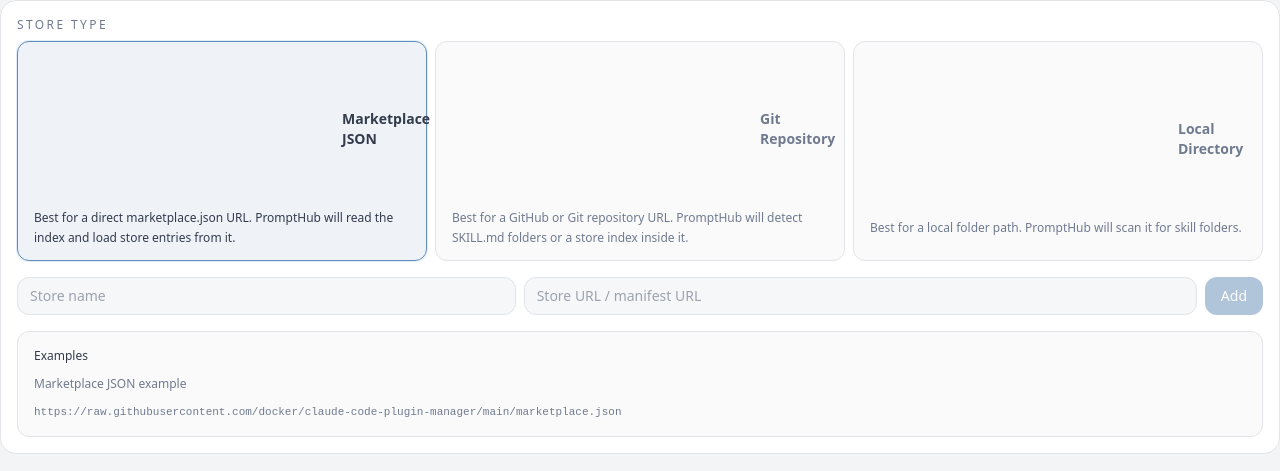
SkillStore custom sources › disables add-source until required fields are filled
The image size is (1280, 471).
Expected: the button "Add" is disabled, x1=1205 y1=277 x2=1263 y2=315
Type "Docs Store" into the field labelled "Store name" at (266, 296), box x1=17 y1=277 x2=516 y2=315
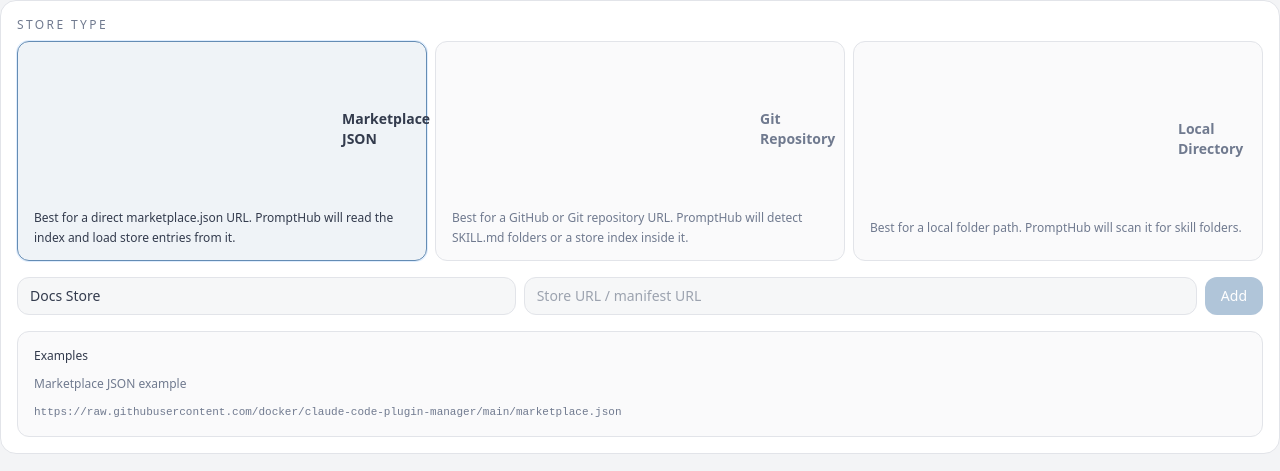
Expected: the button "Add" is disabled, x1=1205 y1=277 x2=1263 y2=315
Type "https://example.com/store.json" into the field labelled "Store URL / manifest URL" at (860, 296), box x1=524 y1=277 x2=1197 y2=315
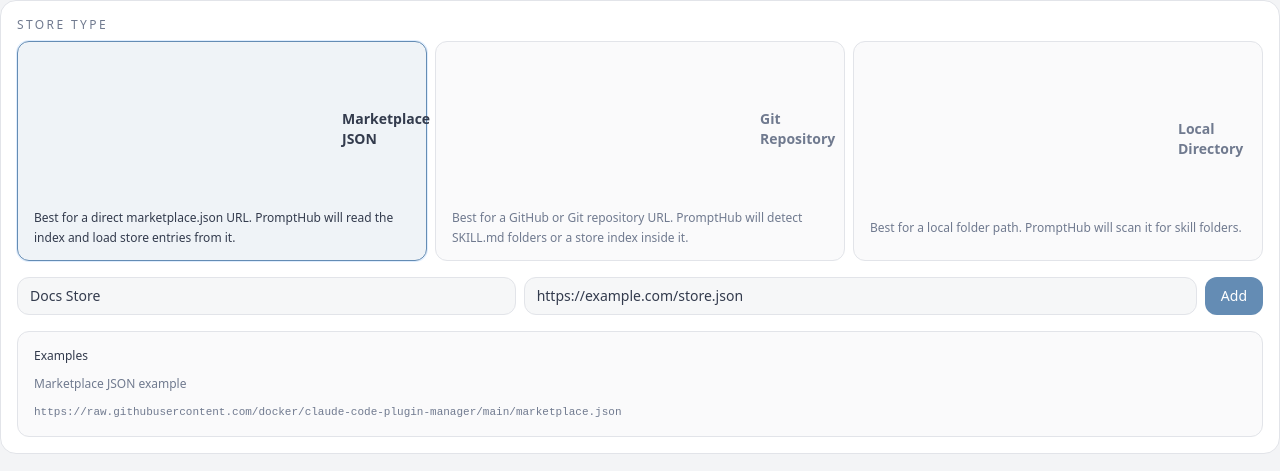
Expected: the button "Add" is enabled, x1=1205 y1=277 x2=1263 y2=315
